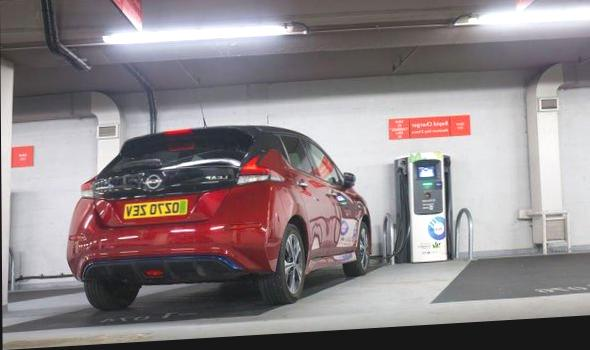License_Plate: (120, 196, 190, 222)
